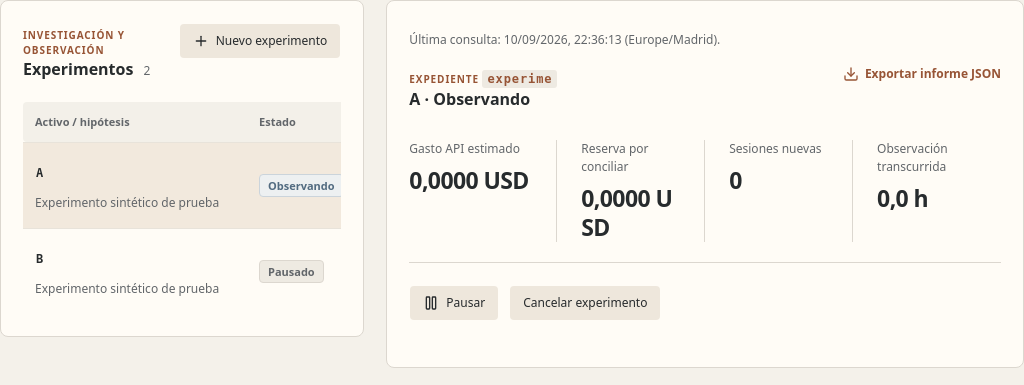
it: Controles del expediente de experimento › el control antiguo no sustituye el expediente seleccionado mientras termina
Click the button "Pausar".
click(454, 303)  # box 409,285 -> 499,321
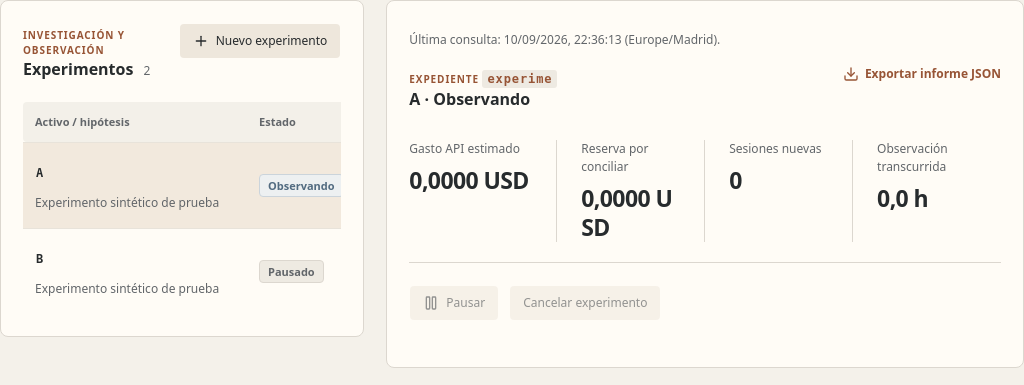
Click the button named "Ver experimento B experime".
click(40, 260)  # box 35,246 -> 44,274
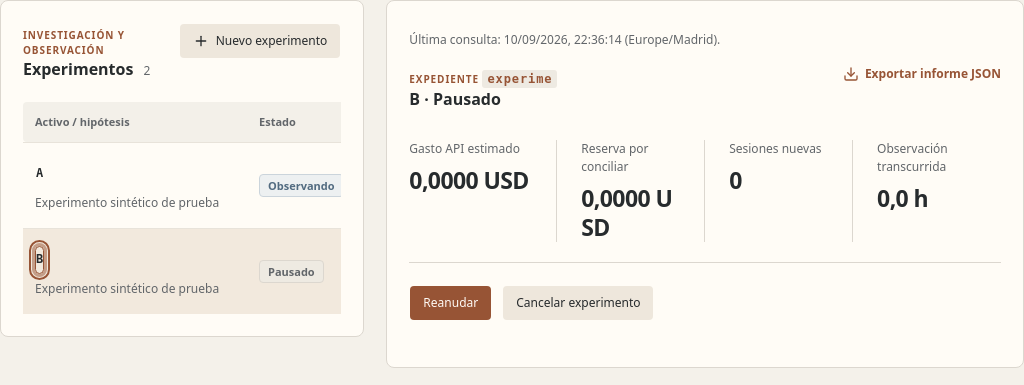
Now the heading "B · Pausado" is shown, box 409,88 -> 501,110
Now the heading "A · Observando" is gone
